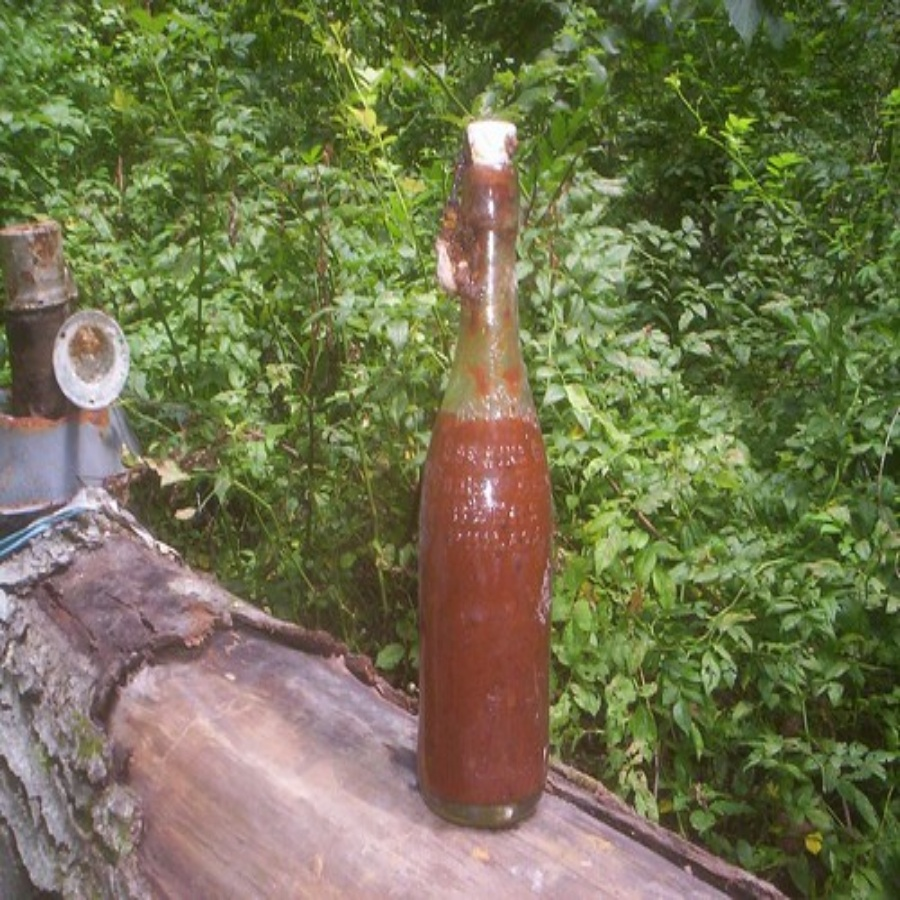beer: (426, 122, 552, 848)
